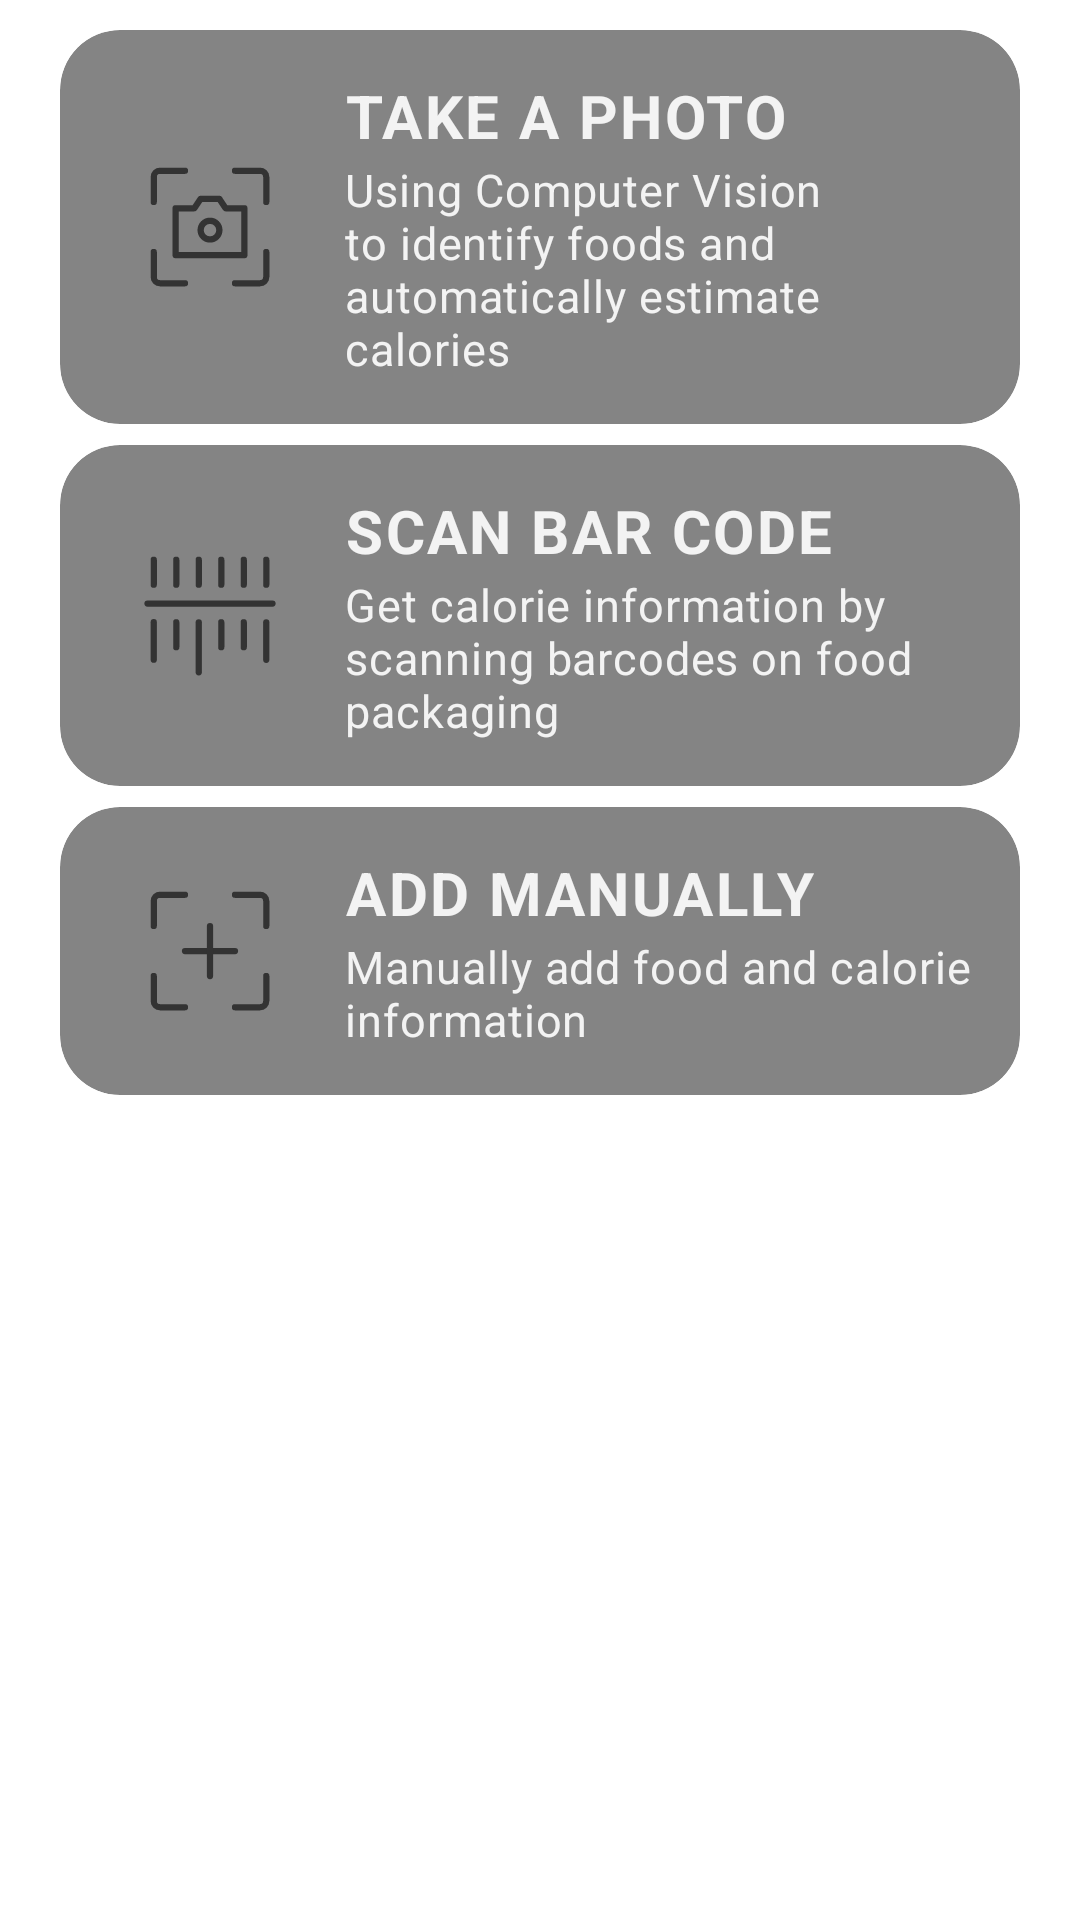

Where to tap for icons on this 1080 x 1920 app screen, as (x,y):
camera: (210,227)
